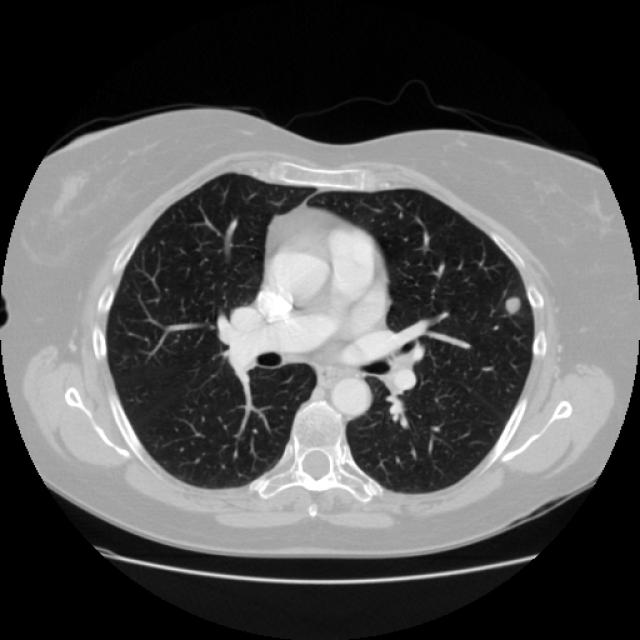nodule: (492, 285, 530, 323)
